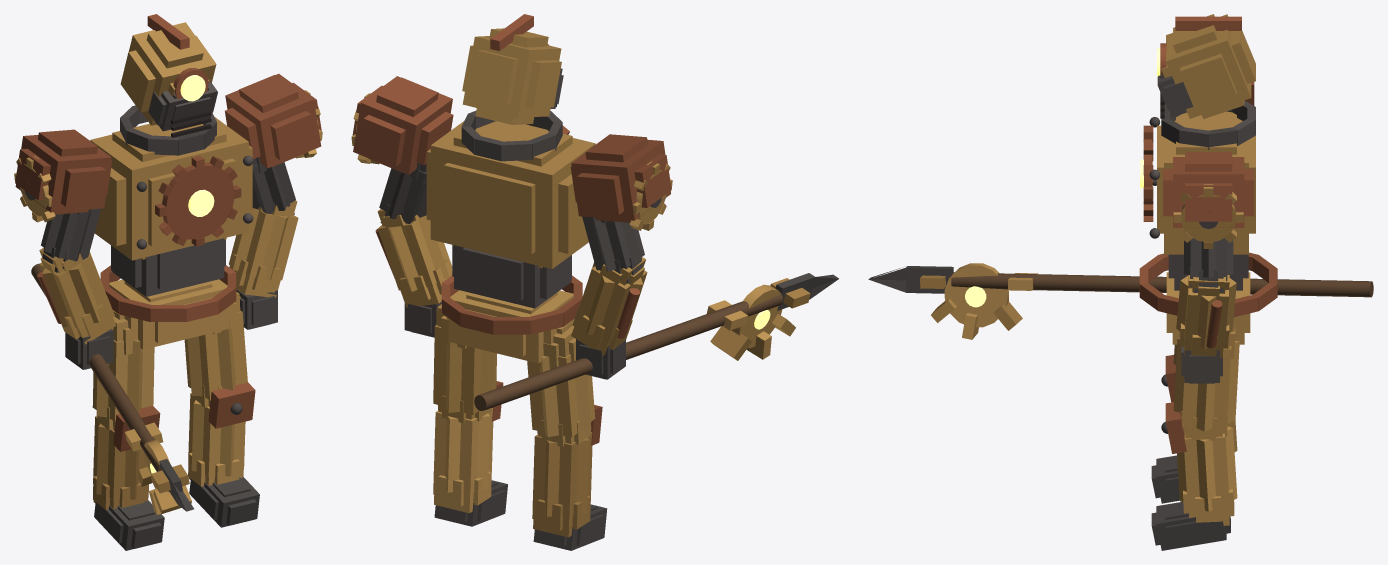
3 renders of one model, left to right at view 1: azimuth 30°, elevation 25°; view 2: azimuth 150°, elevation 25°; view 3: azimuth 270°, elevation 25°, orthographic. The views are drawn at different scales.
Parts seen in each view (by area): view 1: GearSentinel; view 2: GearSentinel; view 3: GearSentinel.
Part boxes in pixels (x1,y1,x2,y2): GearSentinel: (14,14,322,550); GearSentinel: (351,14,838,550); GearSentinel: (868,14,1373,550).
Size of the model in its own units: 0.8874 by 1.44 by 1.32.
